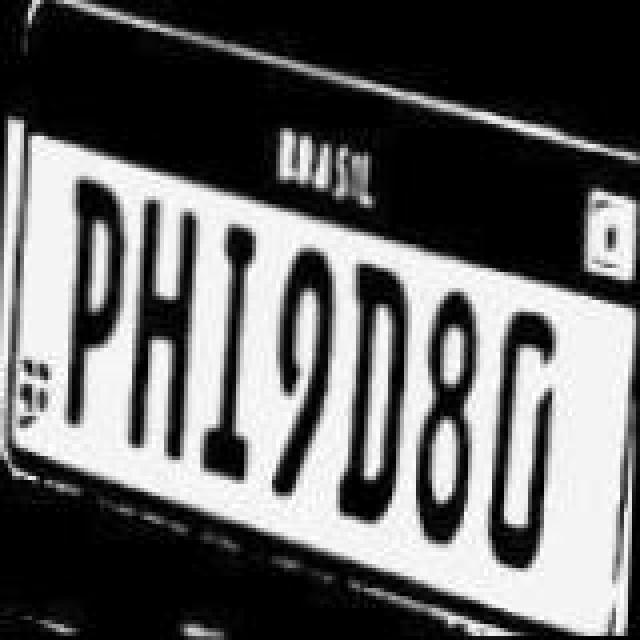8: (410, 284, 482, 544)
9: (266, 232, 334, 508)
D: (340, 232, 420, 536), (486, 288, 558, 576)
H: (128, 194, 204, 474)
I: (198, 220, 258, 488)
P: (60, 172, 128, 436)
